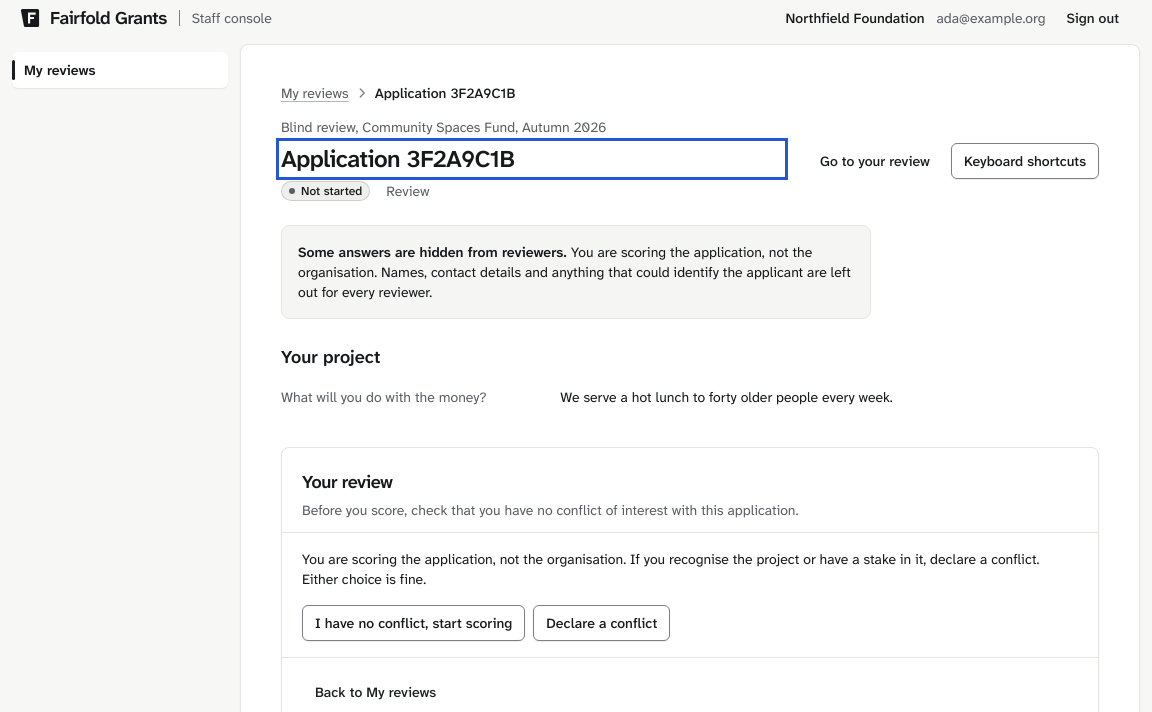
Scenario: the scoring workspace › asks the reviewer to confirm they have no conflict before any scoring, with declaring as an equal choice
Expected: the text "check that you have no conflict of interest" is shown, [302, 501, 798, 519]
Click the button "I have no conflict, start scoring": (414, 623) [302, 605, 525, 641]
(page scrolled)
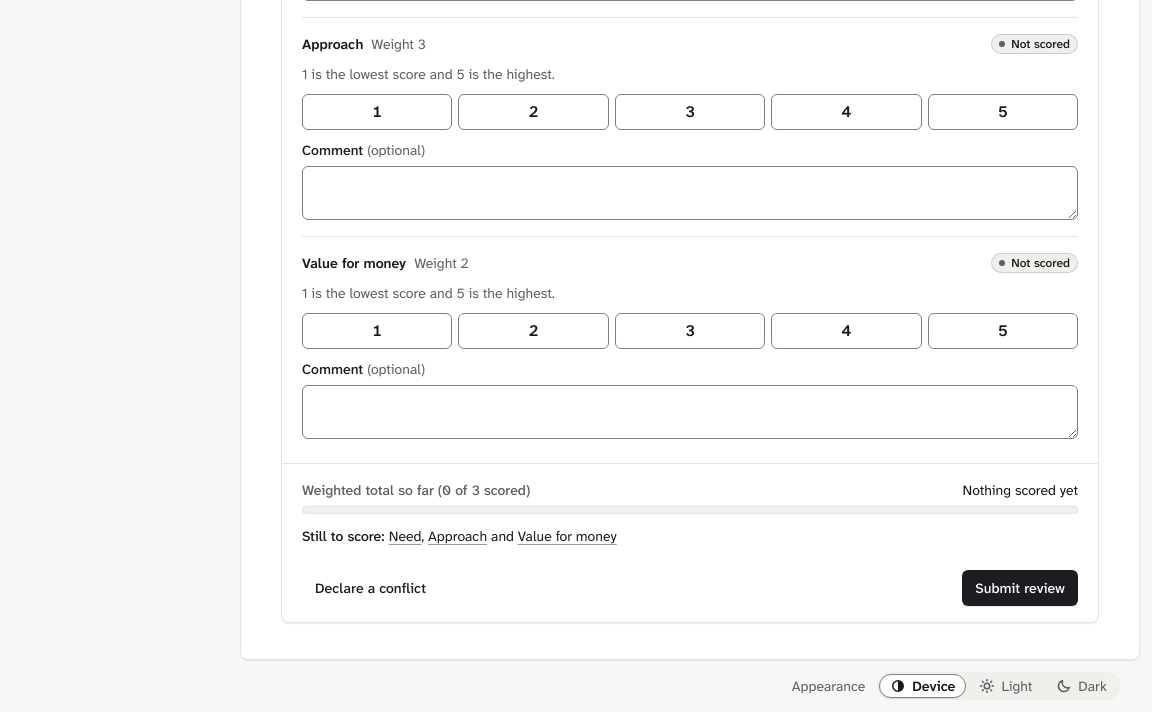
Expected: the button "Submit review" is shown, [962, 570, 1078, 606]
